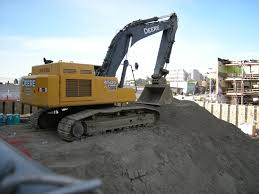excavator: (20, 9, 180, 145)
